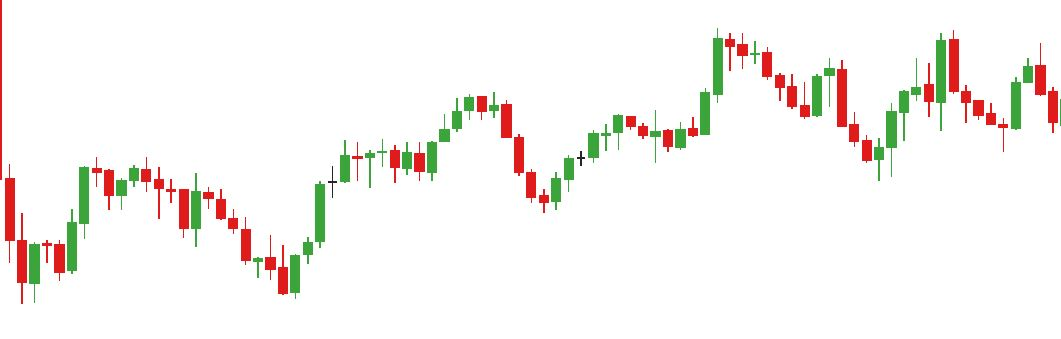buy: (649, 79, 885, 188), (391, 127, 565, 216)
